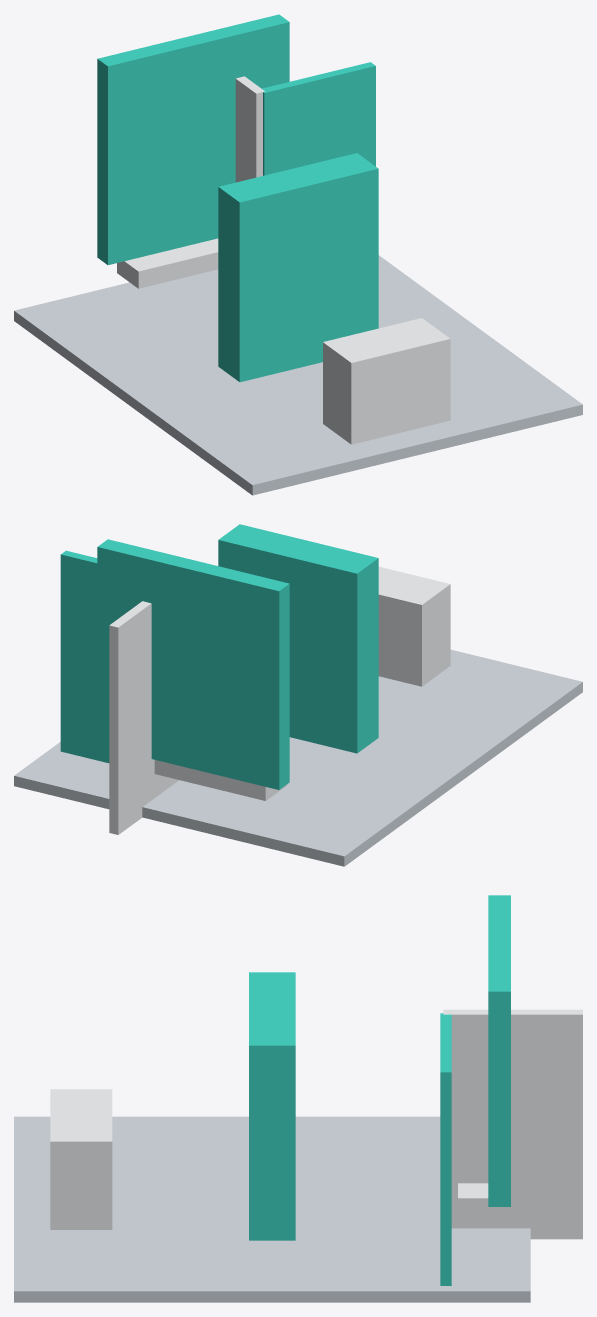
The picture shows the model from 3 angles, top to bottom: view 1: azimuth 30°, elevation 25°; view 2: azimuth 150°, elevation 25°; view 3: azimuth 270°, elevation 25°; orthographic projection. The views are drawn at different scales.
Visible parts, largest first — view 1: Exhibition Booth Concept; view 2: Exhibition Booth Concept; view 3: Exhibition Booth Concept.
Boxes of the visible parts, bbox=[...] form: Exhibition Booth Concept: bbox=[14, 14, 582, 495]; Exhibition Booth Concept: bbox=[14, 524, 582, 866]; Exhibition Booth Concept: bbox=[14, 895, 582, 1302].
Bounding box in the file's own units: 4 × 2.9 × 5.51.
